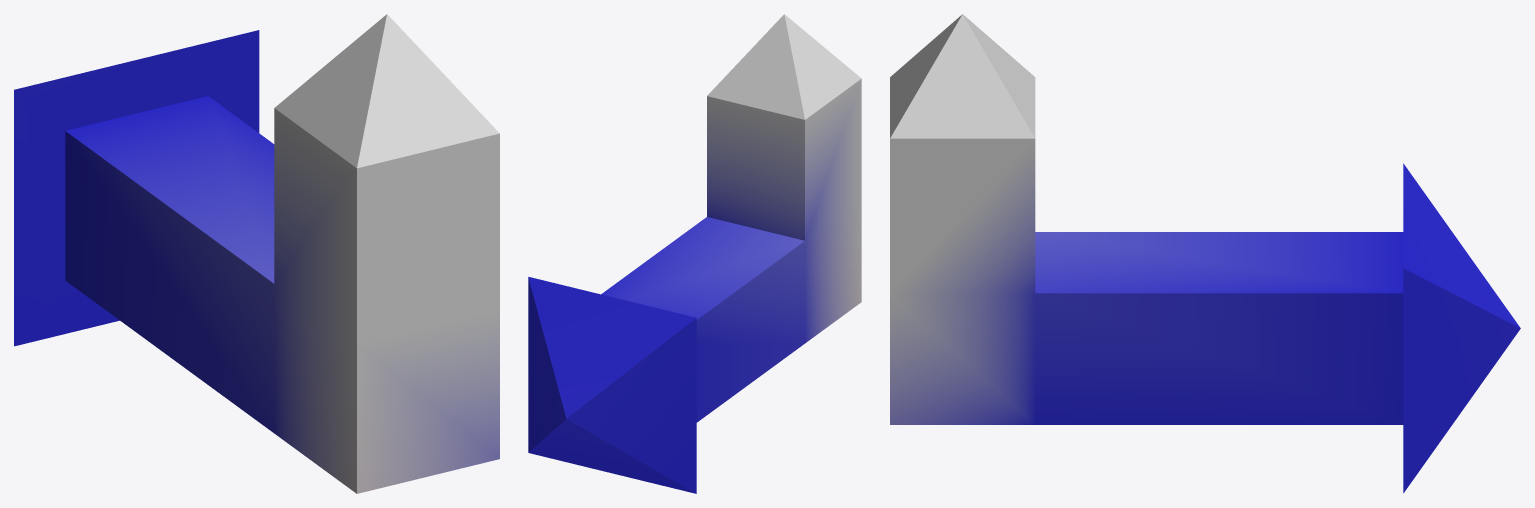
Rendered from zarrow.gltf.
The picture shows the model from 3 angles, left to right: view 1: azimuth 30°, elevation 25°; view 2: azimuth 150°, elevation 25°; view 3: azimuth 270°, elevation 25°; orthographic projection. The views are drawn at different scales.
Parts seen in each view (by area): view 1: zarrow; view 2: zarrow; view 3: zarrow.
Boxes of the visible parts, x1,y1,x2,y2 form: zarrow: (14, 14, 499, 493); zarrow: (528, 14, 861, 493); zarrow: (890, 14, 1520, 493).
Size of the model in its own units: 0.34 by 0.6436 by 0.8609.
